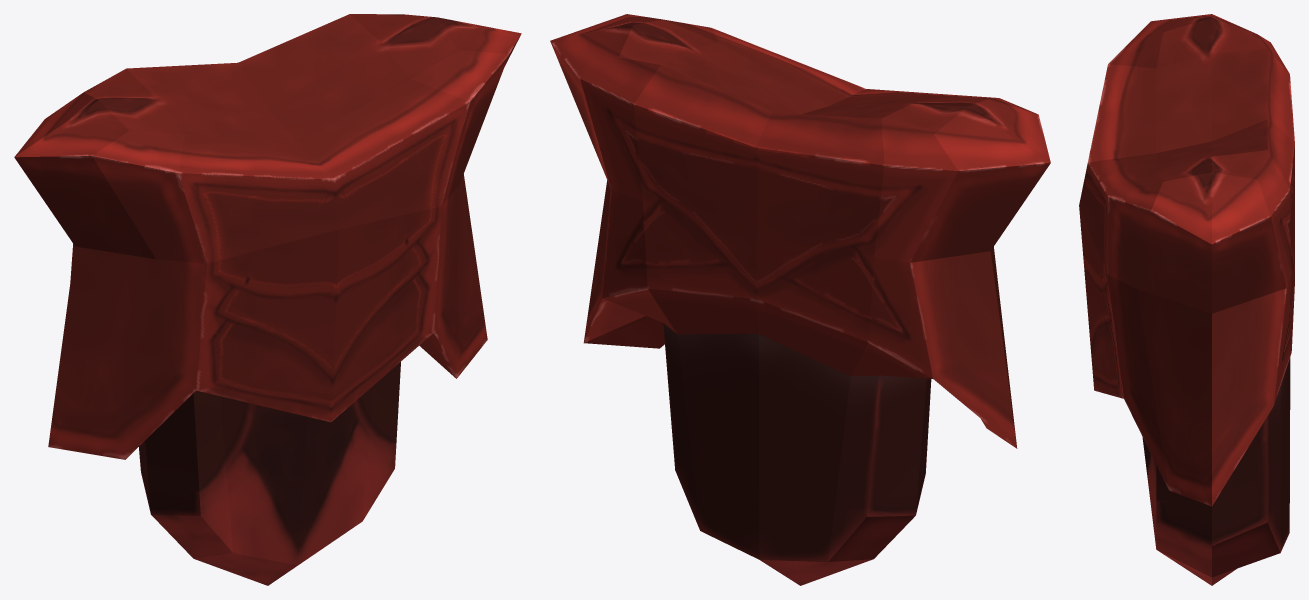
The model's file is armour.fbx.
3 views of the same model, side by side, from view 1: azimuth 30°, elevation 25°; view 2: azimuth 150°, elevation 25°; view 3: azimuth 270°, elevation 25° (orthographic). The views are drawn at different scales.
Visible parts, largest first — view 1: armour; view 2: armour; view 3: armour.
Boxes of the visible parts, x1,y1,x2,y2 form: armour: (14, 14, 521, 585); armour: (550, 14, 1050, 585); armour: (1079, 14, 1294, 585).
Size of the model in its own units: 220 by 219 by 87.19.
Materials: 1 (1 with a texture image).
